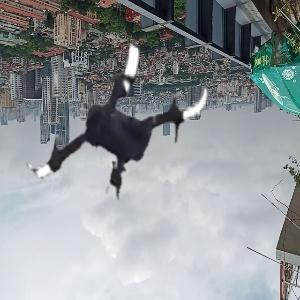drone: (17, 15, 218, 216)
